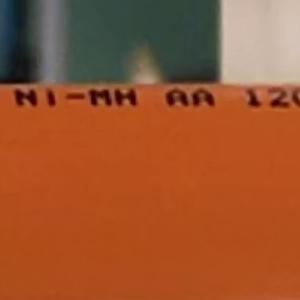keyword: (5, 79, 146, 115)
